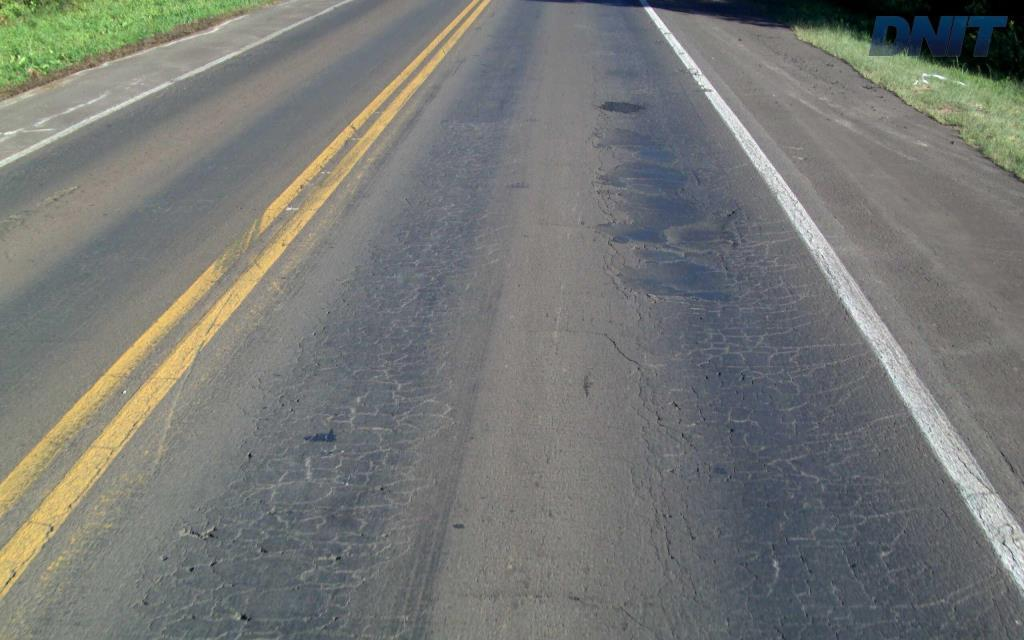pothole: (172, 518, 218, 540), (314, 546, 346, 563), (229, 607, 256, 623)
